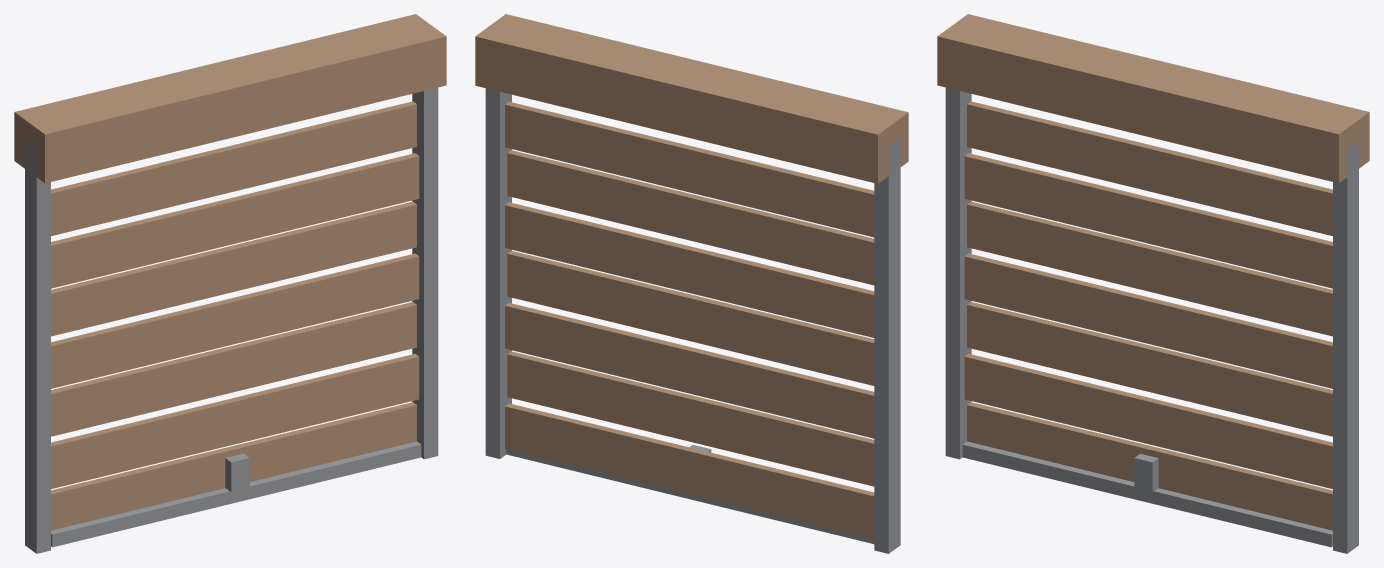
File: roller_door.glb
The picture shows the model from 3 angles, left to right: view 1: azimuth 30°, elevation 25°; view 2: azimuth 150°, elevation 25°; view 3: azimuth 330°, elevation 25°; orthographic projection.
Parts seen in each view (by area): view 1: roller_door; view 2: roller_door; view 3: roller_door.
Part boxes in pixels (x1=…): roller_door: x1=14, y1=14, x2=446, y2=553; roller_door: x1=475, y1=14, x2=908, y2=553; roller_door: x1=937, y1=14, x2=1369, y2=553.
Size of the model in its own units: 3.94 by 3.99 by 0.52.
